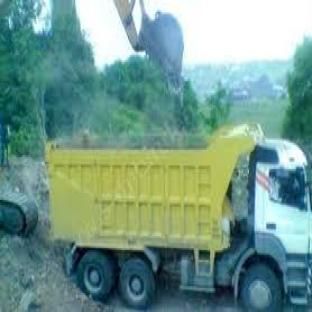Vehicle: (42, 124, 311, 305)
